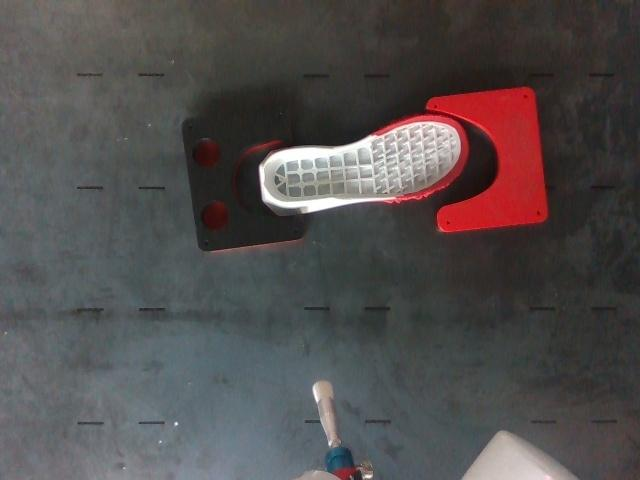shoes: (264, 116, 468, 202)
